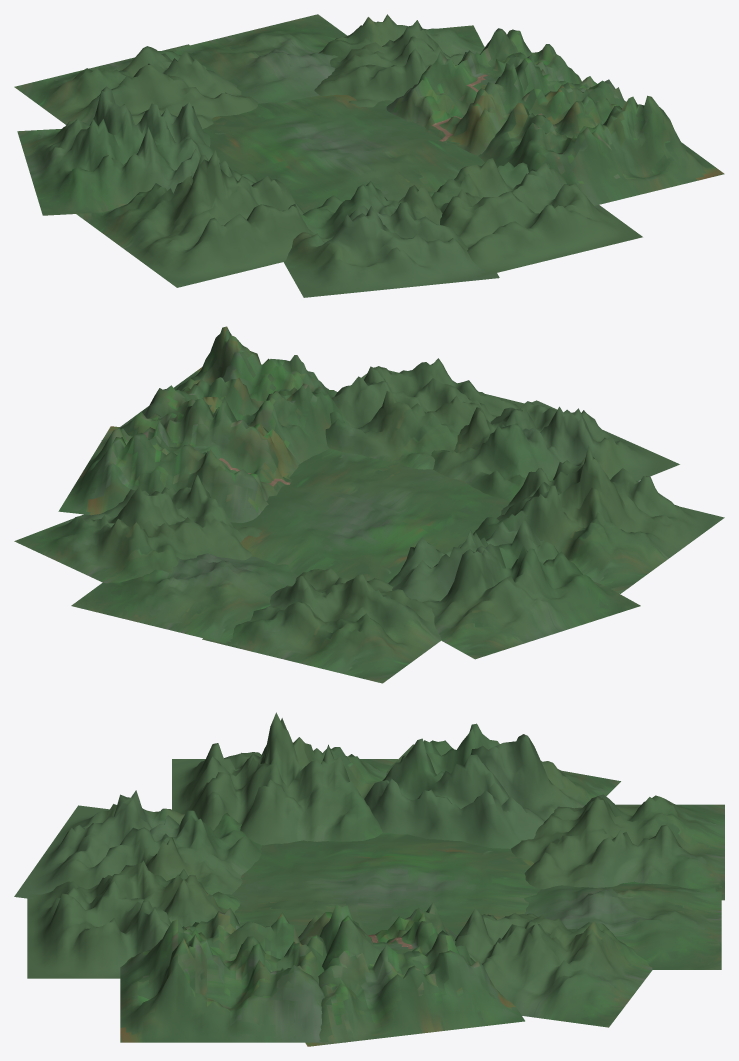
The model's file is landscape.glb.
3 renders of one model, top to bottom at view 1: azimuth 30°, elevation 25°; view 2: azimuth 150°, elevation 25°; view 3: azimuth 270°, elevation 25°, orthographic. The views are drawn at different scales.
Visible parts, largest first — view 1: Landscape.009, Landscape.010, Landscape.003, Landscape.002, Landscape.004, Landscape.001, Landscape.012, Landscape.006, Landscape.005, Landscape.007; view 2: Landscape.009, Landscape.004, Landscape.012, Landscape.003, Landscape.006, Landscape.005, Landscape.001, Landscape.002, Landscape.010, Landscape.007; view 3: Landscape.010, Landscape.009, Landscape.012, Landscape.004, Landscape.003, Landscape.006, Landscape.001, Landscape.005, Landscape.002, Landscape.007.
Boxes of the visible parts, x1,y1,x2,y2 form: Landscape.009: (202, 94, 484, 212); Landscape.010: (478, 79, 724, 205); Landscape.003: (76, 150, 314, 287); Landscape.002: (283, 181, 499, 297); Landscape.004: (17, 86, 219, 215); Landscape.001: (428, 158, 642, 279); Landscape.012: (386, 28, 626, 155); Landscape.006: (14, 44, 257, 128); Landscape.005: (314, 14, 484, 107); Landscape.007: (174, 14, 347, 103); Landscape.009: (230, 448, 510, 583); Landscape.004: (388, 520, 640, 659); Landscape.012: (58, 397, 298, 522); Landscape.003: (473, 445, 724, 593); Landscape.006: (202, 568, 441, 683); Landscape.005: (14, 475, 261, 583); Landscape.001: (325, 358, 524, 469); Landscape.002: (431, 400, 679, 501); Landscape.010: (101, 326, 346, 464); Landscape.007: (71, 553, 298, 644); Landscape.010: (120, 908, 345, 1042); Landscape.009: (231, 832, 540, 936); Landscape.012: (298, 901, 524, 1046); Landscape.004: (364, 723, 620, 848); Landscape.003: (172, 712, 397, 845); Landscape.006: (511, 794, 724, 900); Landscape.001: (27, 860, 240, 978); Landscape.005: (455, 908, 652, 1027); Landscape.002: (14, 790, 261, 899); Landscape.007: (524, 881, 721, 969).
Size of the model in its own units: 128 by 18.25 by 126.
2 materials, 2 textured.
